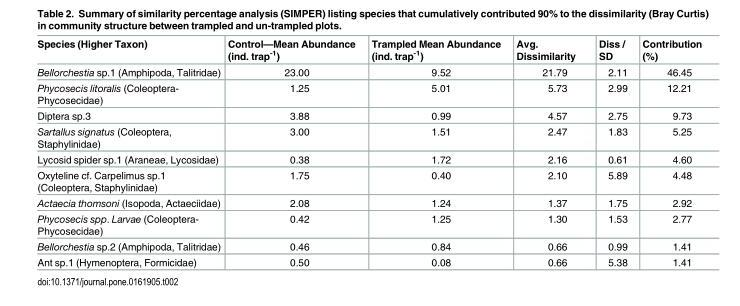table: (36, 37, 701, 267)
table column: (36, 37, 223, 267), (362, 37, 507, 267), (223, 37, 362, 267), (507, 37, 586, 267), (634, 37, 701, 267), (586, 37, 634, 267)
table column header: (36, 37, 701, 63)
table row: (36, 79, 701, 107), (36, 166, 701, 194), (36, 123, 701, 150), (36, 210, 701, 237), (36, 37, 701, 63), (36, 237, 701, 254), (36, 63, 701, 79), (36, 107, 701, 123), (36, 150, 701, 166), (36, 194, 701, 210), (36, 254, 701, 267)
